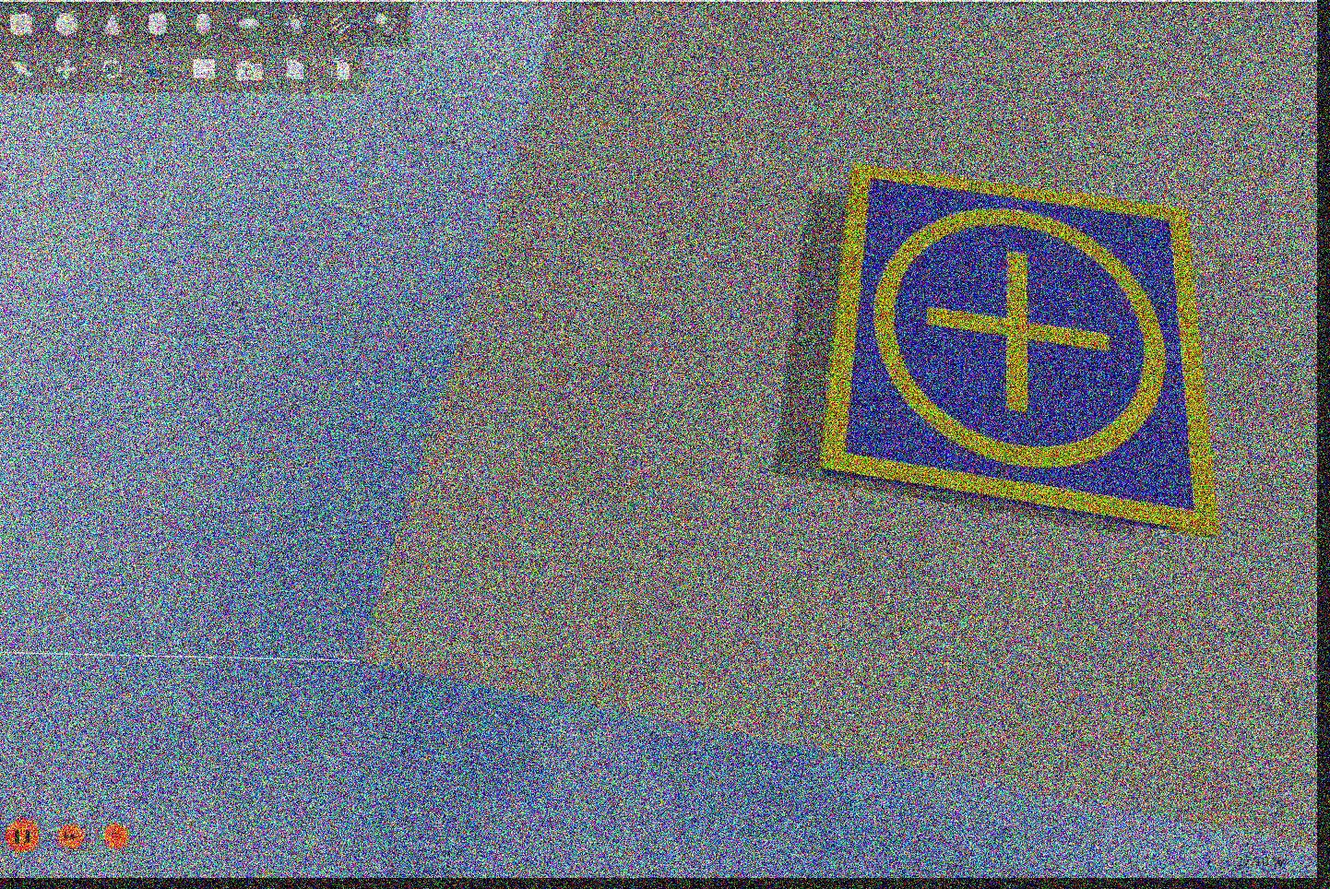small_base: (819, 160, 1228, 541)
